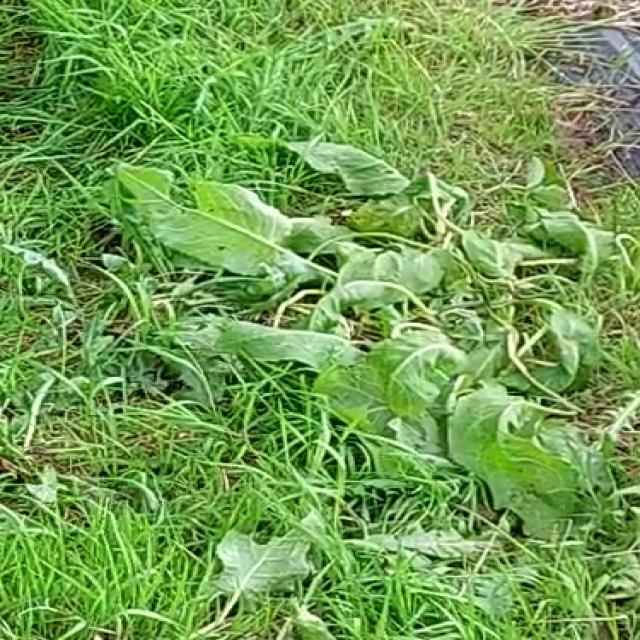organic waste: (150, 142, 582, 482)
